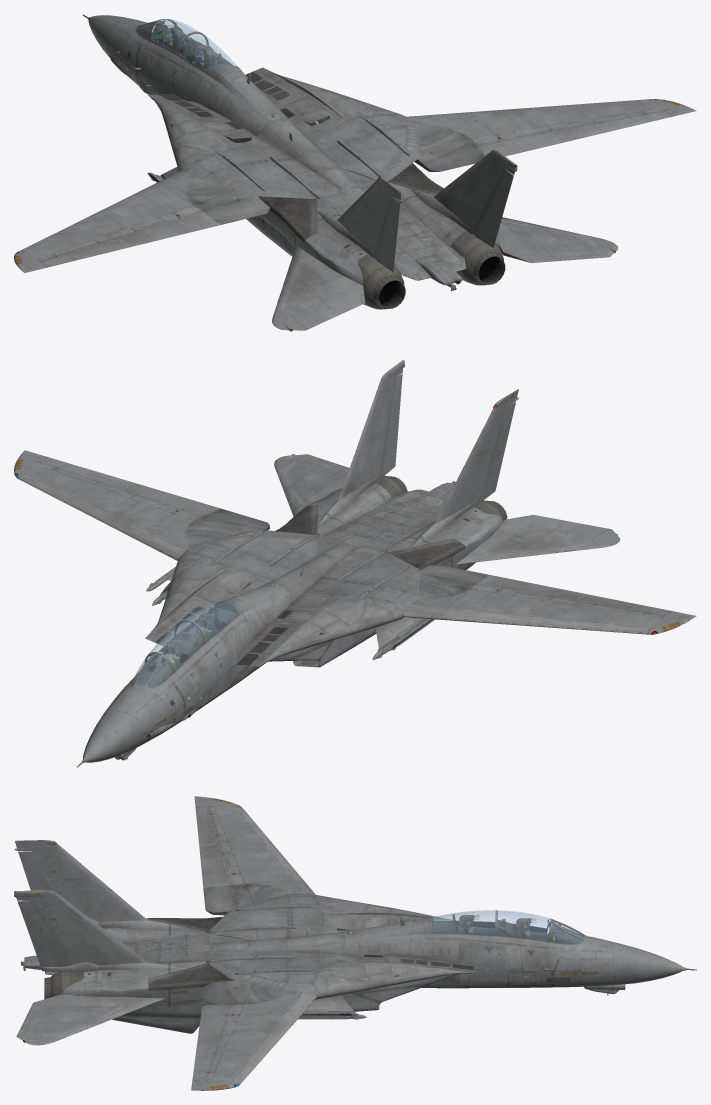
Rendered from f14_tomcat.glb.
3 views of the same model, one above another, from view 1: azimuth 30°, elevation 25°; view 2: azimuth 150°, elevation 25°; view 3: azimuth 270°, elevation 25° (orthographic). The views are drawn at different scales.
Visible parts, largest first — view 1: f14a-airframe_0, f14a-canopyFr_1, f14a-cockpit_2; view 2: f14a-airframe_0, f14a-canopyFr_1, f14a-cockpit_2; view 3: f14a-airframe_0, f14a-canopyFr_1, f14a-cockpit_2.
Boxes of the visible parts, x1,y1,x2,y2 form: f14a-airframe_0: (14,14,696,331); f14a-canopyFr_1: (137,19,237,77); f14a-cockpit_2: (136,19,233,77); f14a-airframe_0: (14,360,696,767); f14a-canopyFr_1: (132,602,237,687); f14a-cockpit_2: (132,601,237,687); f14a-airframe_0: (14,796,696,1090); f14a-canopyFr_1: (432,910,583,943); f14a-cockpit_2: (431,911,584,943).
Size of the model in its own units: 10.67 by 2.48 by 10.46.
Materials: 4 (2 with a texture image).
